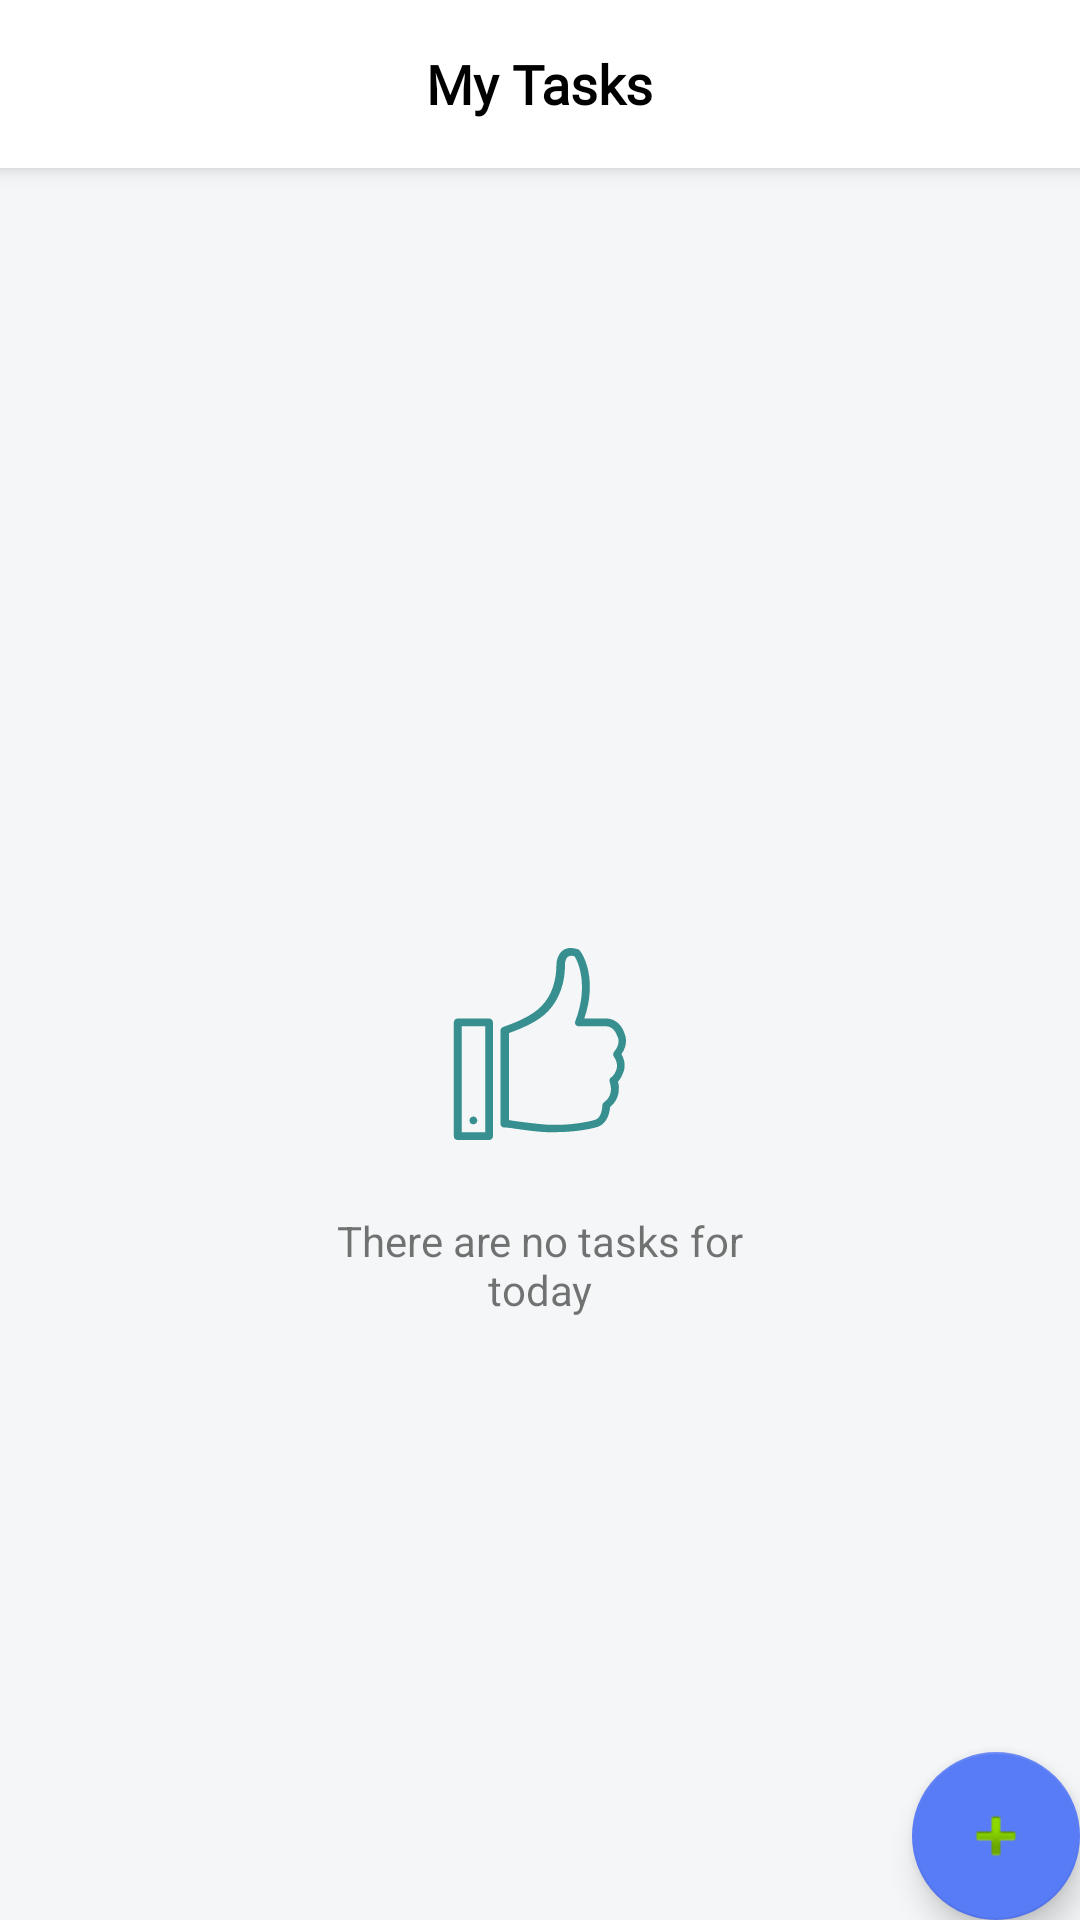

Screen size 1080x1920. Icon name, then its box in pixels as (x1, y1, x2, y2):
add: (912, 1752, 1080, 1920)
thumbs up: (453, 948, 626, 1140)
